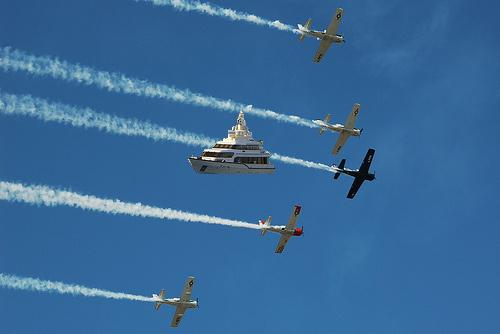tampered: (189, 109, 275, 174)
